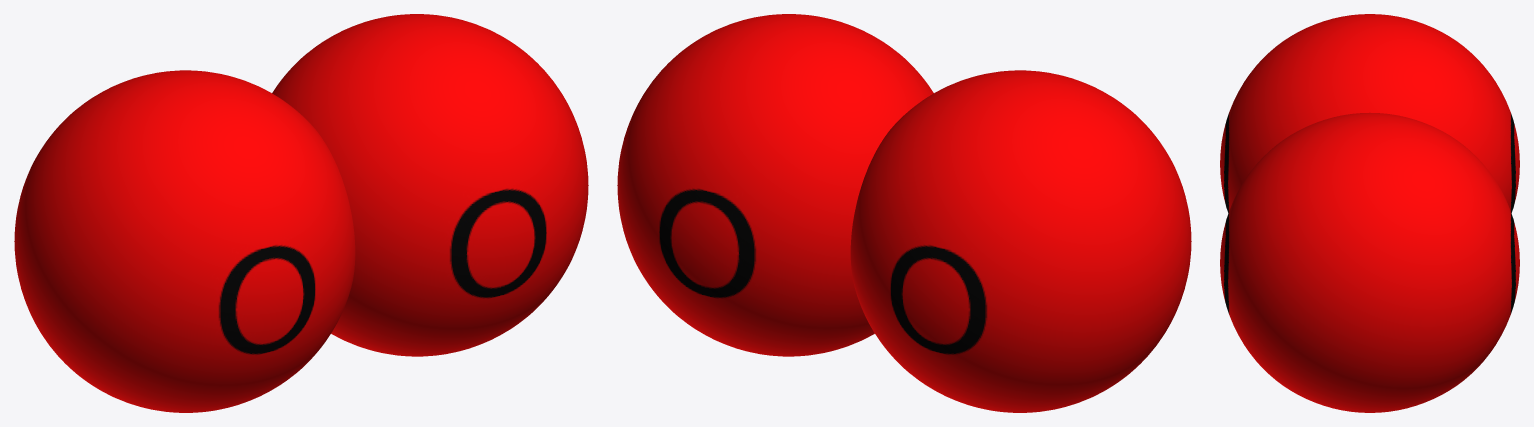
File: O2_Molecule.fbx
The picture shows the model from 3 angles, left to right: view 1: azimuth 30°, elevation 25°; view 2: azimuth 150°, elevation 25°; view 3: azimuth 270°, elevation 25°; orthographic projection. The views are drawn at different scales.
Visible parts, largest first — view 1: O2_MOLECULE1:O2_MOLECULE1; view 2: O2_MOLECULE1:O2_MOLECULE1; view 3: O2_MOLECULE1:O2_MOLECULE1.
Part boxes in pixels (x1,y1,x2,y2): O2_MOLECULE1:O2_MOLECULE1: (14, 14, 588, 412); O2_MOLECULE1:O2_MOLECULE1: (617, 14, 1191, 412); O2_MOLECULE1:O2_MOLECULE1: (1220, 14, 1519, 412).
Size of the model in its own units: 0.5111 by 0.2872 by 0.2872.
